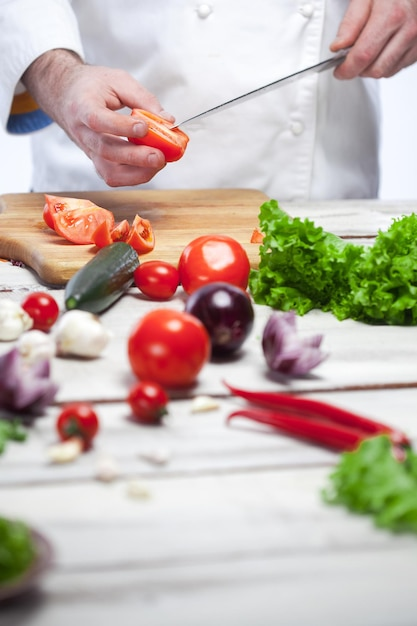knife: (168, 55, 352, 137)
